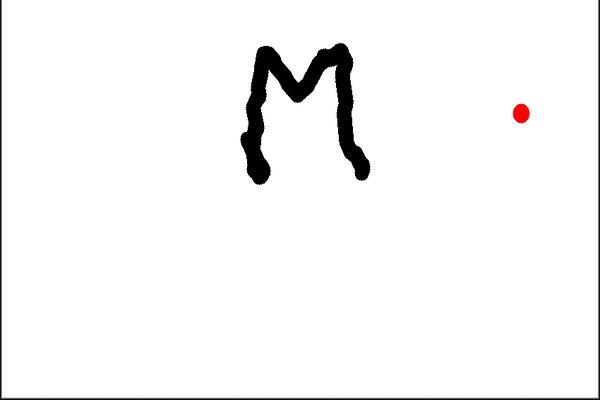M: (234, 40, 373, 181)
